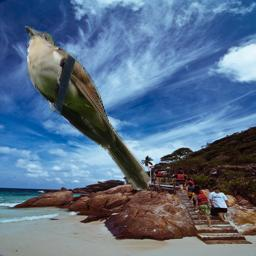Cuckoo: (25, 26, 151, 191)
